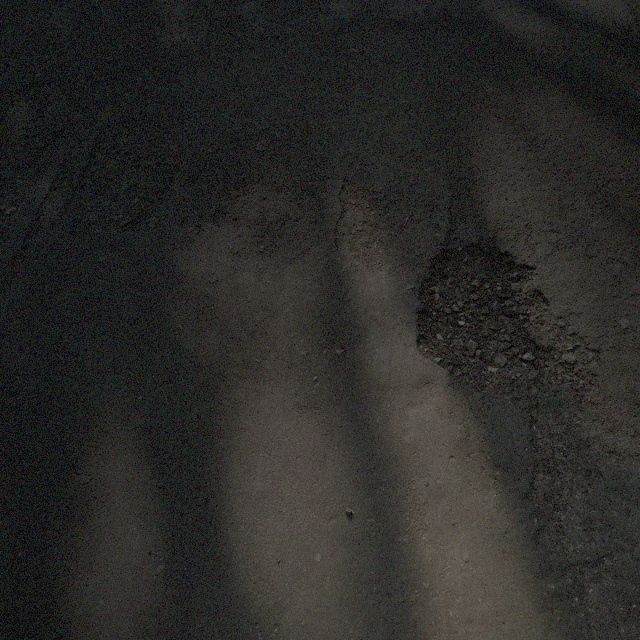pothole: (407, 236, 569, 386)
